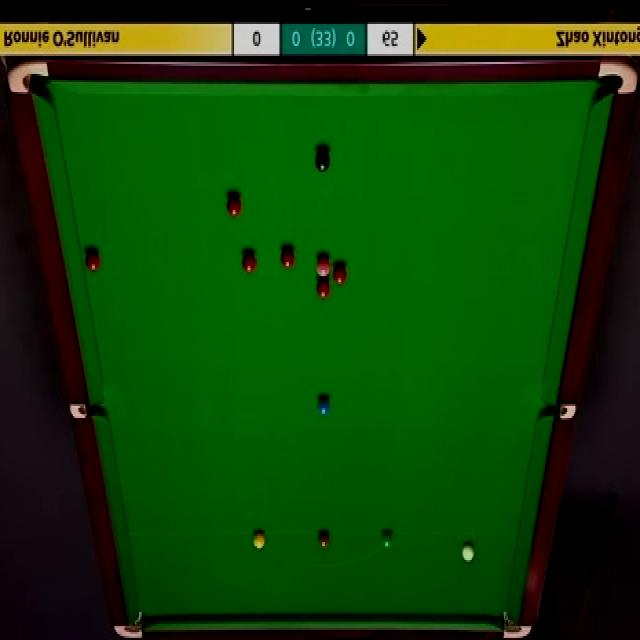black-ball: (314, 149, 330, 173)
blue-ball: (316, 396, 329, 417)
brown-ball: (317, 531, 330, 550)
green-ball: (381, 531, 393, 550)
pink-ball: (315, 254, 331, 277)
red-ball: (84, 248, 100, 273), (226, 195, 242, 218), (242, 250, 257, 274), (316, 276, 330, 300), (333, 262, 347, 285), (281, 246, 294, 268)
white-ball: (461, 540, 475, 563)
yellow-ball: (250, 530, 266, 550)
